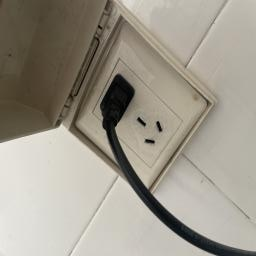outlet: (59, 8, 221, 220)
